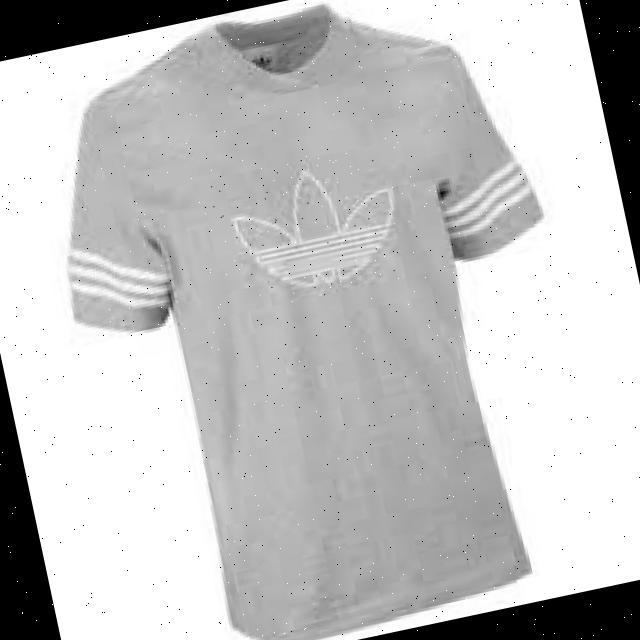Adidas: (208, 140, 423, 316)
